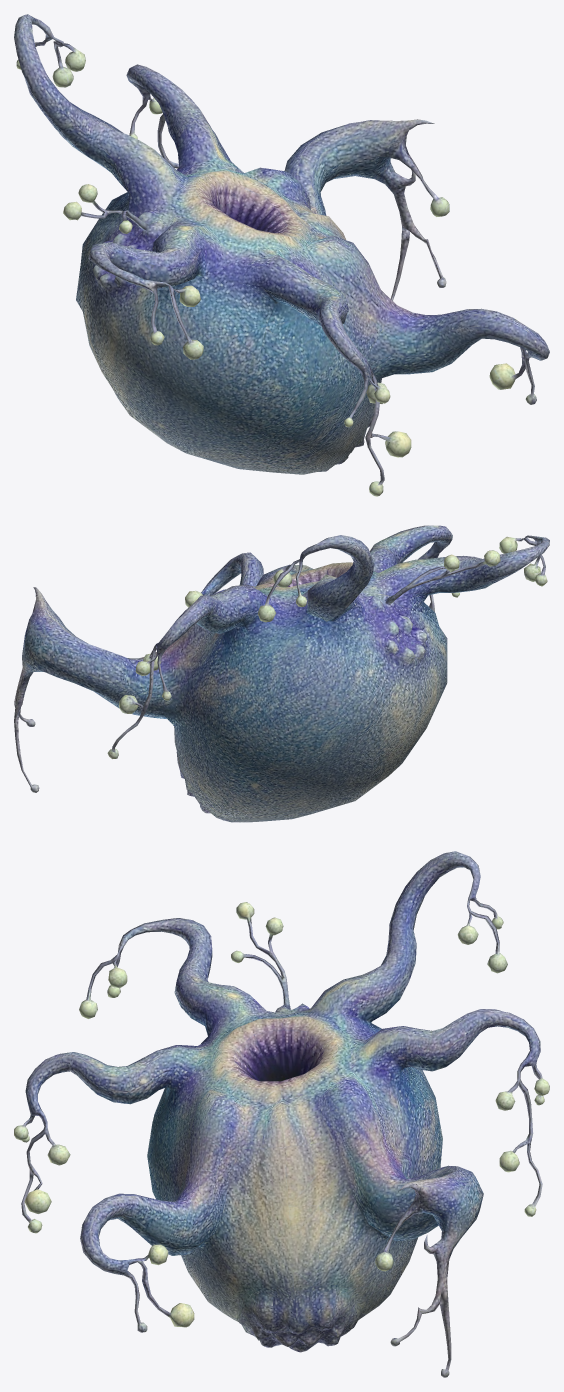
Rendered from hadal-glow-polyp-echo.glb.
3 views of the same model, one above another, from view 1: azimuth 30°, elevation 25°; view 2: azimuth 150°, elevation 25°; view 3: azimuth 270°, elevation 25° (orthographic). The views are drawn at different scales.
Parts seen in each view (by area): view 1: tripo_node_336a3e45-4849-4187-8d6c-b7e7436213cf; view 2: tripo_node_336a3e45-4849-4187-8d6c-b7e7436213cf; view 3: tripo_node_336a3e45-4849-4187-8d6c-b7e7436213cf.
Boxes of the visible parts, box(x1,y1,x2,y2) form: tripo_node_336a3e45-4849-4187-8d6c-b7e7436213cf: box(14, 14, 549, 496); tripo_node_336a3e45-4849-4187-8d6c-b7e7436213cf: box(14, 525, 549, 822); tripo_node_336a3e45-4849-4187-8d6c-b7e7436213cf: box(14, 851, 549, 1377).
Bounding box in the file's own units: 0.9473 × 0.834 × 0.998.
Materials: 1 (1 with a texture image).
